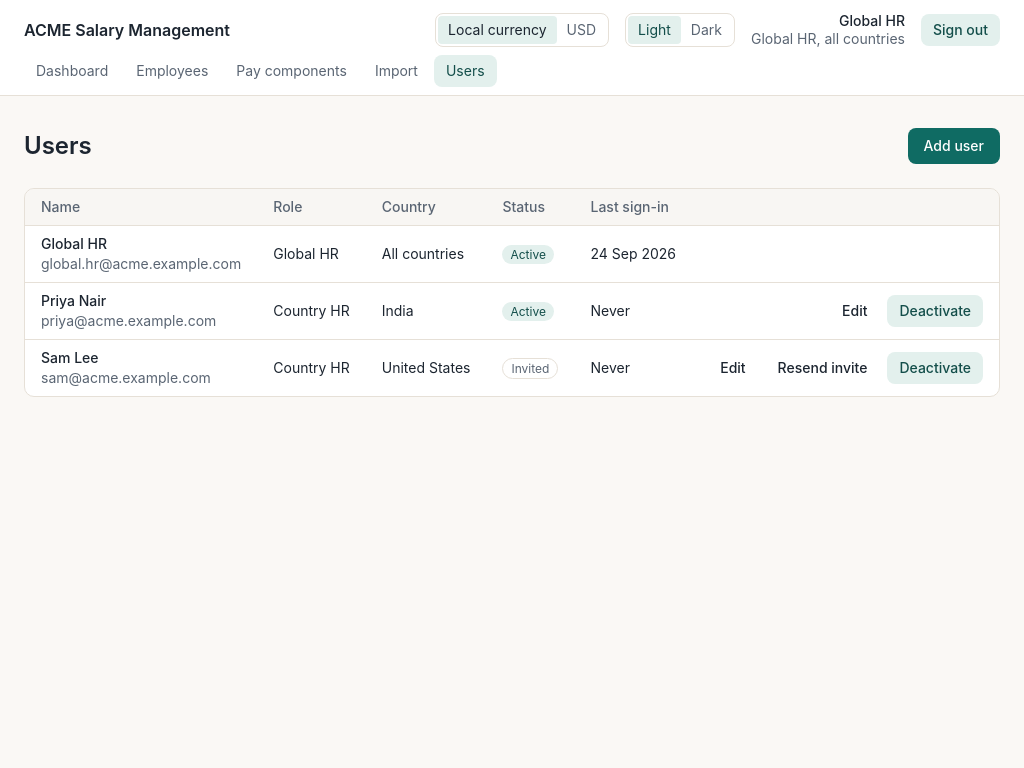
Test case: UsersPage › changes the country of a country HR user
Expected: the text "Priya Nair" is shown, x1=41 y1=292 x2=106 y2=309
Click the button "Edit" in the row of "Priya Nair" at [855, 311], box x1=830 y1=295 x2=880 y2=327
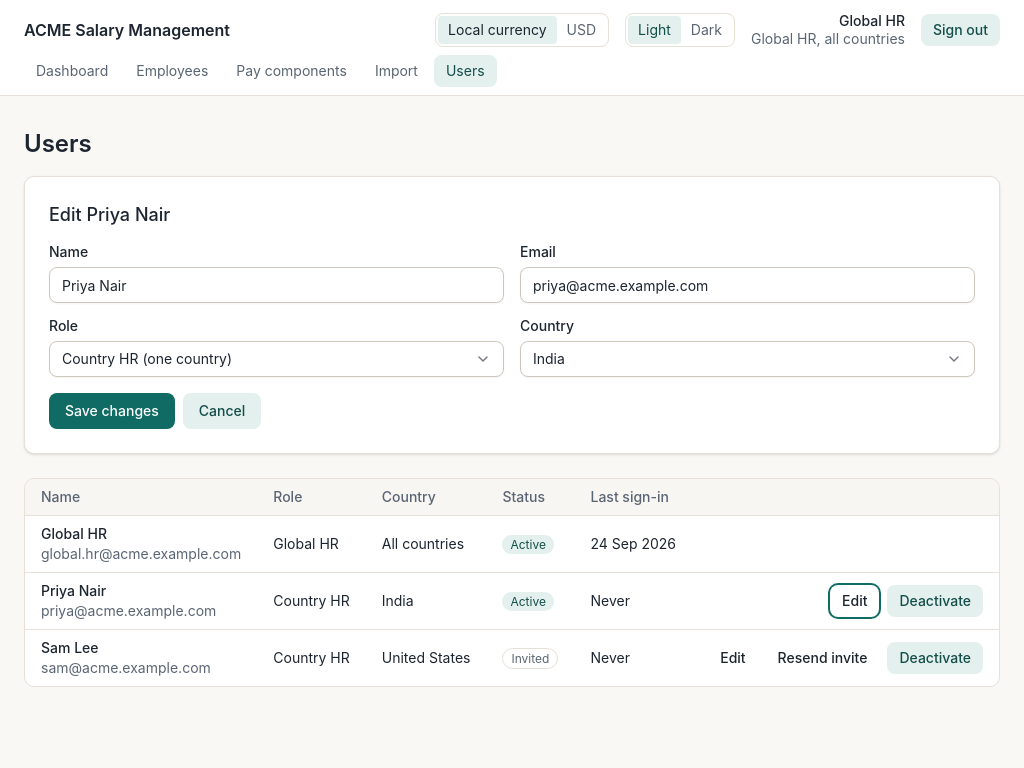
Expected: the field labelled "Name" holds "Priya Nair", x1=49 y1=267 x2=504 y2=303
Expected: the dropdown named "Country" reads "India"
Click the dropdown named "Country" at [549, 358], box x1=520 y1=341 x2=975 y2=377
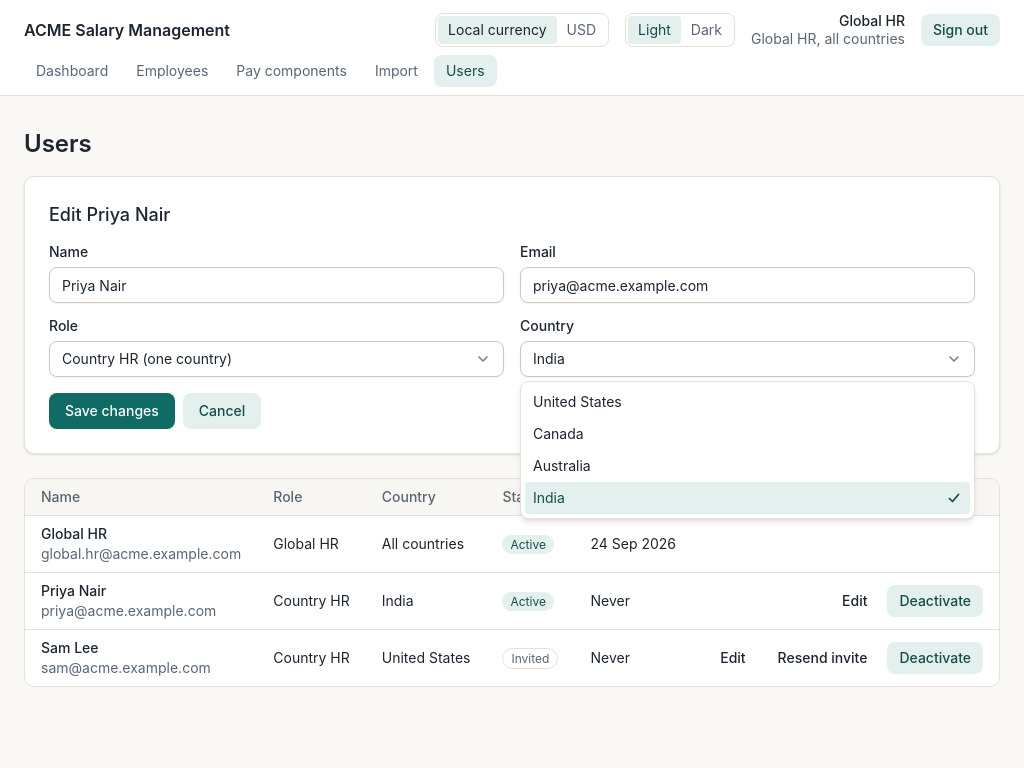
Click the option "Canada" at [558, 434], box x1=533 y1=425 x2=584 y2=442
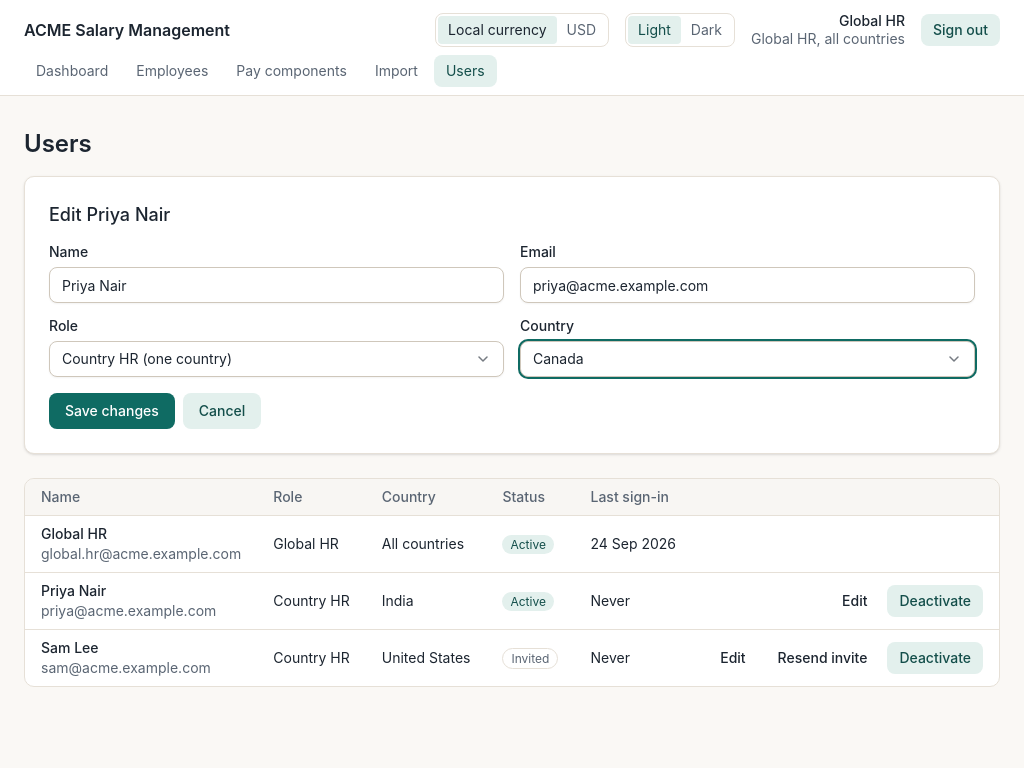
Click the button "Save changes" at [112, 411], box x1=49 y1=393 x2=175 y2=429
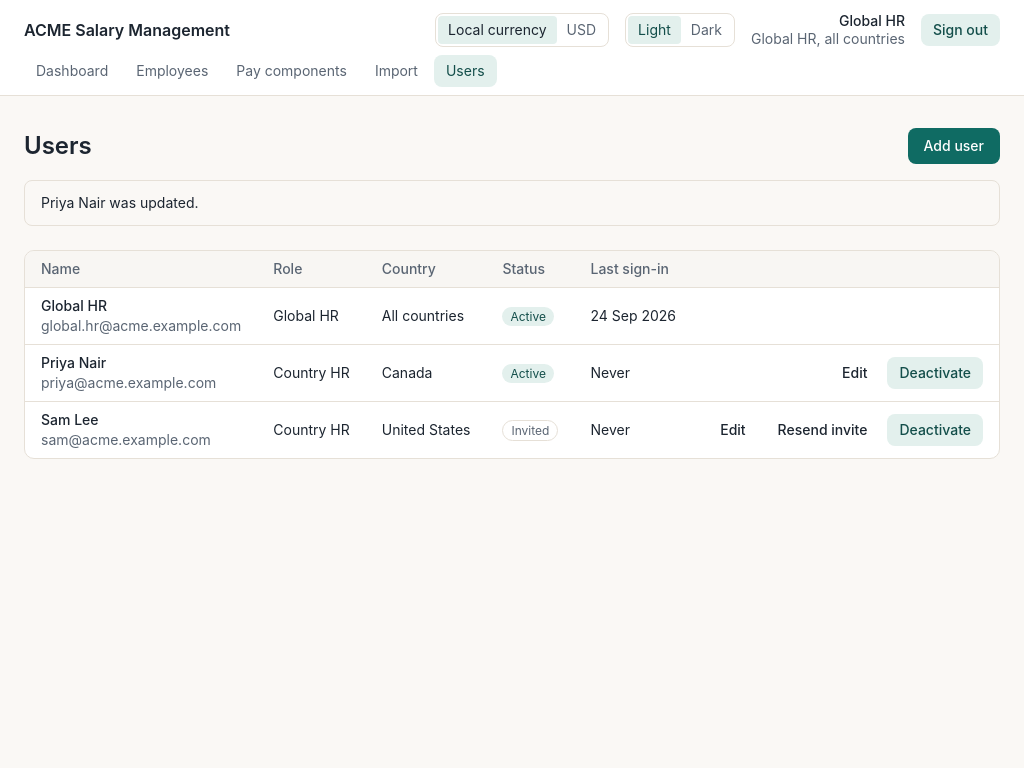
Expected: the text "Canada" is shown, x1=366 y1=344 x2=486 y2=402
